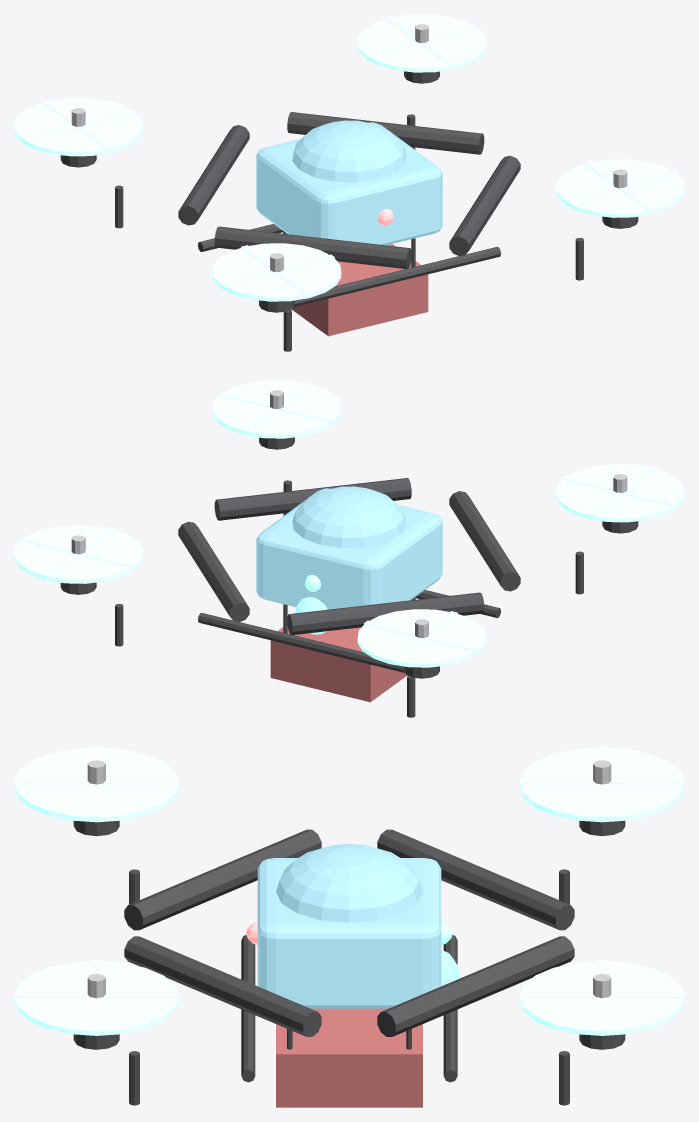
Rendered from drone.glb.
3 renders of one model, top to bottom at view 1: azimuth 30°, elevation 25°; view 2: azimuth 150°, elevation 25°; view 3: azimuth 270°, elevation 25°, orthographic. The views are drawn at different scales.
Parts seen in each view (by area): view 1: Cube, Sphere, Cube.009, Cylinder.012, Cylinder.002, Cylinder.017, Cylinder.007, Cylinder.010, Cylinder, Cylinder.005, Cylinder.015, Cylinder.020 (+4 smaller); view 2: Cube, Sphere, Cube.009, Cylinder.007, Cylinder.002, Cylinder.017, Cylinder.012, Cylinder.005, Cylinder.015, Cylinder.010, Cylinder, Cylinder.021 (+4 smaller); view 3: Cube, Cube.009, Sphere, Cylinder.007, Cylinder.012, Cylinder.002, Cylinder.017, Cylinder, Cylinder.015, Cylinder.005, Cylinder.010, Cylinder.020 (+15 smaller).
Part boxes in pixels (<box>): Cube: <box>256,122,442,245</box>; Sphere: <box>292,120,406,181</box>; Cube.009: <box>292,244,428,336</box>; Cylinder.012: <box>212,243,341,301</box>; Cylinder.002: <box>357,14,486,72</box>; Cylinder.017: <box>556,159,684,217</box>; Cylinder.007: <box>14,98,142,156</box>; Cylinder.010: <box>214,226,411,269</box>; Cylinder: <box>287,112,484,154</box>; Cylinder.005: <box>178,125,249,225</box>; Cylinder.015: <box>449,155,520,256</box>; Cylinder.020: <box>294,247,500,306</box>; Cube: <box>256,488,442,609</box>; Sphere: <box>292,486,406,547</box>; Cube.009: <box>270,627,406,702</box>; Cylinder.007: <box>357,609,486,667</box>; Cylinder.002: <box>14,525,142,583</box>; Cylinder.017: <box>212,380,341,438</box>; Cylinder.012: <box>556,464,684,522</box>; Cylinder.005: <box>287,592,484,635</box>; Cylinder.015: <box>214,478,411,520</box>; Cylinder.010: <box>449,491,520,591</box>; Cylinder: <box>178,521,249,622</box>; Cylinder.021: <box>198,613,404,672</box>; Cube: <box>257,858,441,1008</box>; Cube.009: <box>276,1008,422,1107</box>; Sphere: <box>276,843,422,922</box>; Cylinder.007: <box>519,747,684,822</box>; Cylinder.012: <box>14,747,179,822</box>; Cylinder.002: <box>519,961,684,1035</box>; Cylinder.017: <box>14,961,179,1035</box>; Cylinder: <box>377,936,574,1036</box>; Cylinder.015: <box>124,936,321,1036</box>; Cylinder.005: <box>377,829,574,930</box>; Cylinder.010: <box>124,829,321,930</box>; Cylinder.020: <box>241,935,255,1082</box>.
Bounding box in the file's own units: 1.46 × 0.532 × 1.46.
